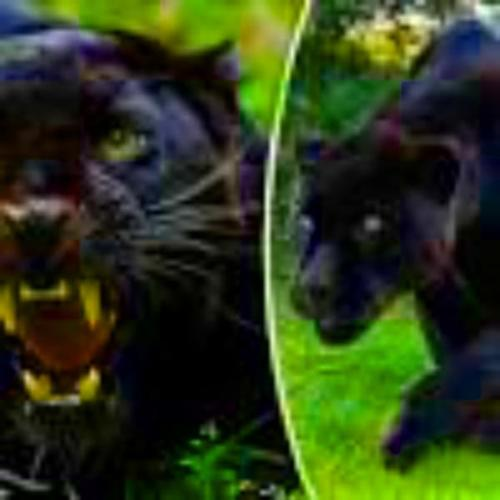panther-endangered: (0, 12, 263, 494), (291, 19, 500, 474)
